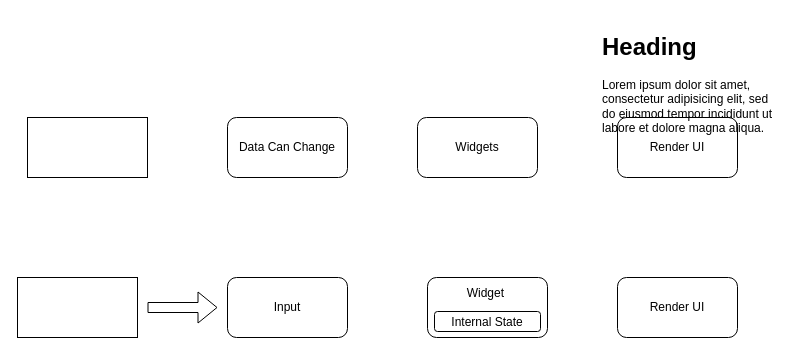
This 805x355 diagram has some shape labels left out. The shapes that lost their labels are listed below. From the top down, each one's centre as x and y in pixels, then its label:
the point at 87,147: Stateful
the point at 77,307: Stateless
